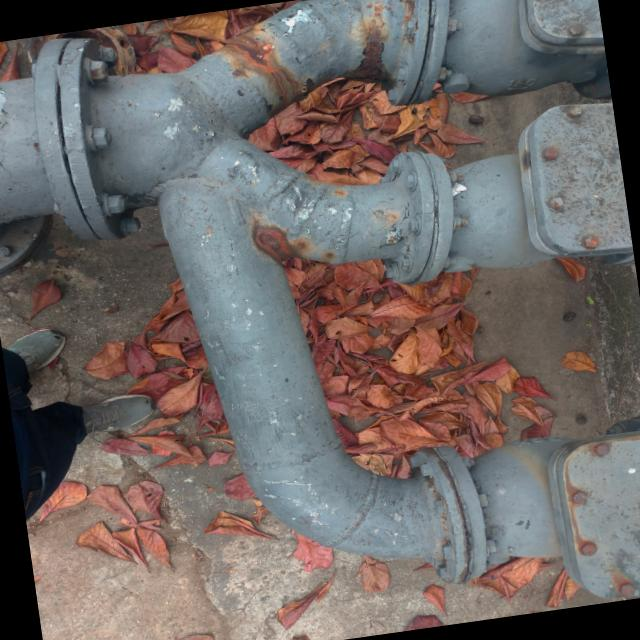gas: (0, 0, 640, 552)
